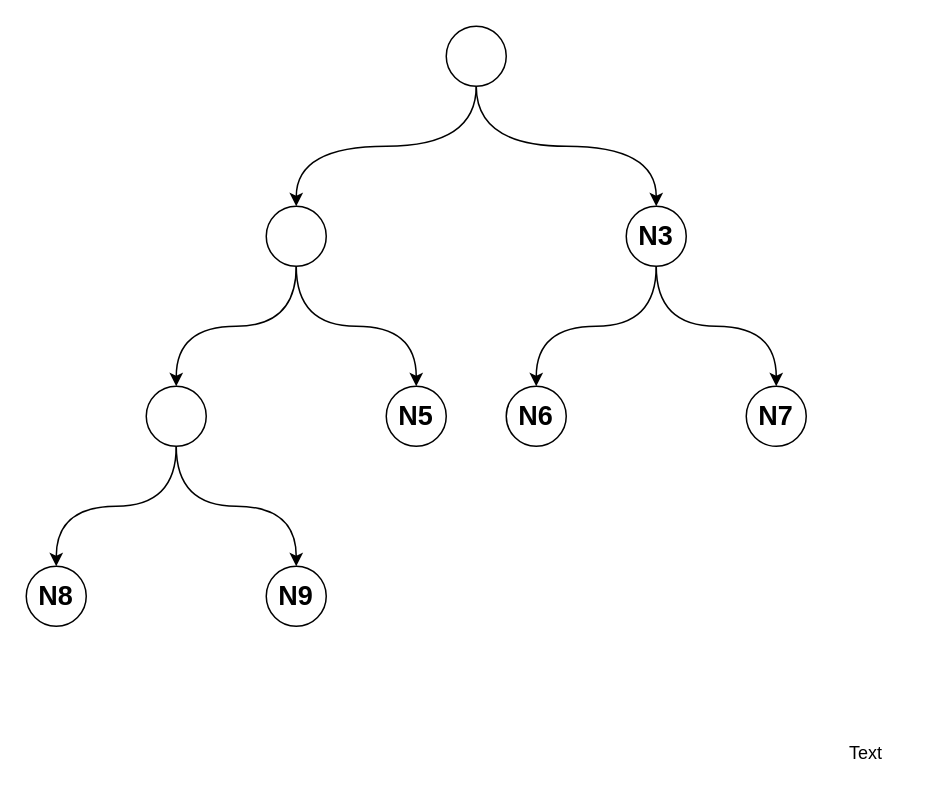
This 938x803 diagram has some shape labels left out. Each missing label, with the box of its shape:
N1: (445, 25, 506, 86)
N2: (265, 205, 326, 266)
N4: (145, 385, 206, 446)
